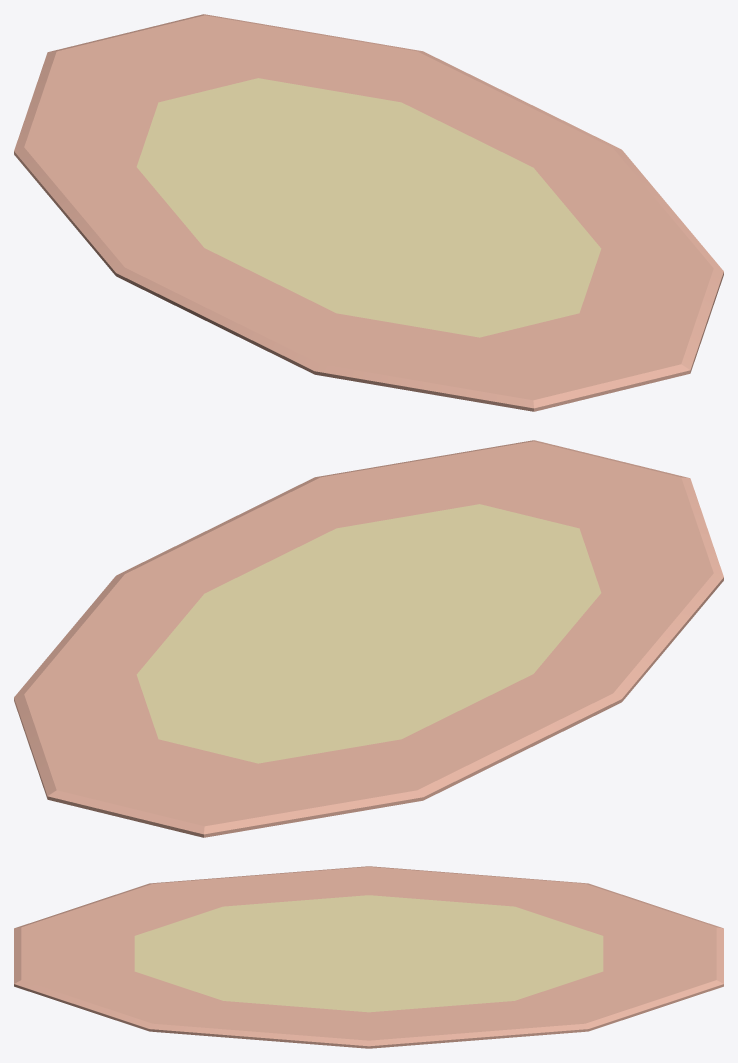
File: geo_kitchenRug_01.fbx
The picture shows the model from 3 angles, top to bottom: view 1: azimuth 30°, elevation 25°; view 2: azimuth 150°, elevation 25°; view 3: azimuth 270°, elevation 25°; orthographic projection. The views are drawn at different scales.
Parts seen in each view (by area): view 1: pCylinder1; view 2: pCylinder1; view 3: pCylinder1.
Boxes of the visible parts, x1,y1,x2,y2 form: pCylinder1: (14, 14, 723, 411); pCylinder1: (14, 440, 723, 837); pCylinder1: (14, 866, 723, 1048).
Bounding box in the file's own units: 227 × 2.93 × 378.
